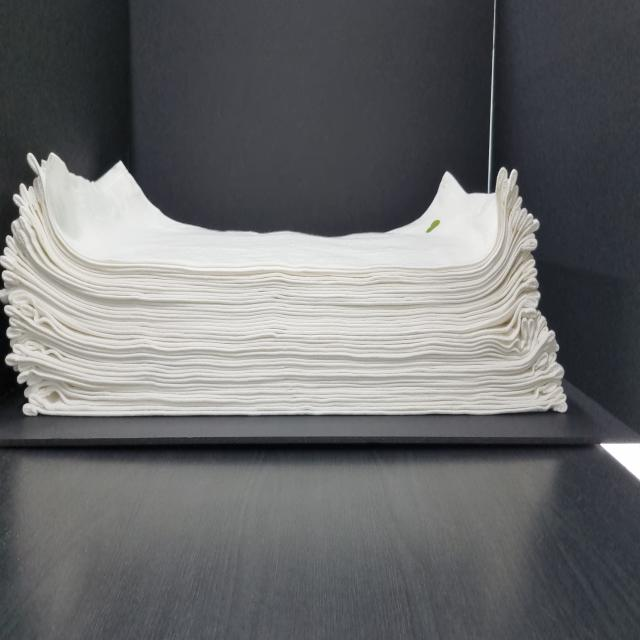not_50count_towel: (0, 139, 576, 422)
